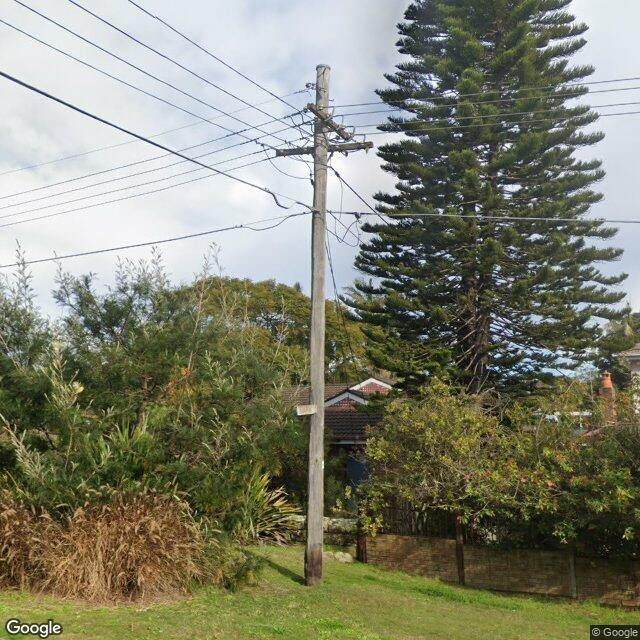crossarm: (308, 101, 350, 142), (274, 141, 374, 158)
timber-pole: (304, 63, 332, 590)
